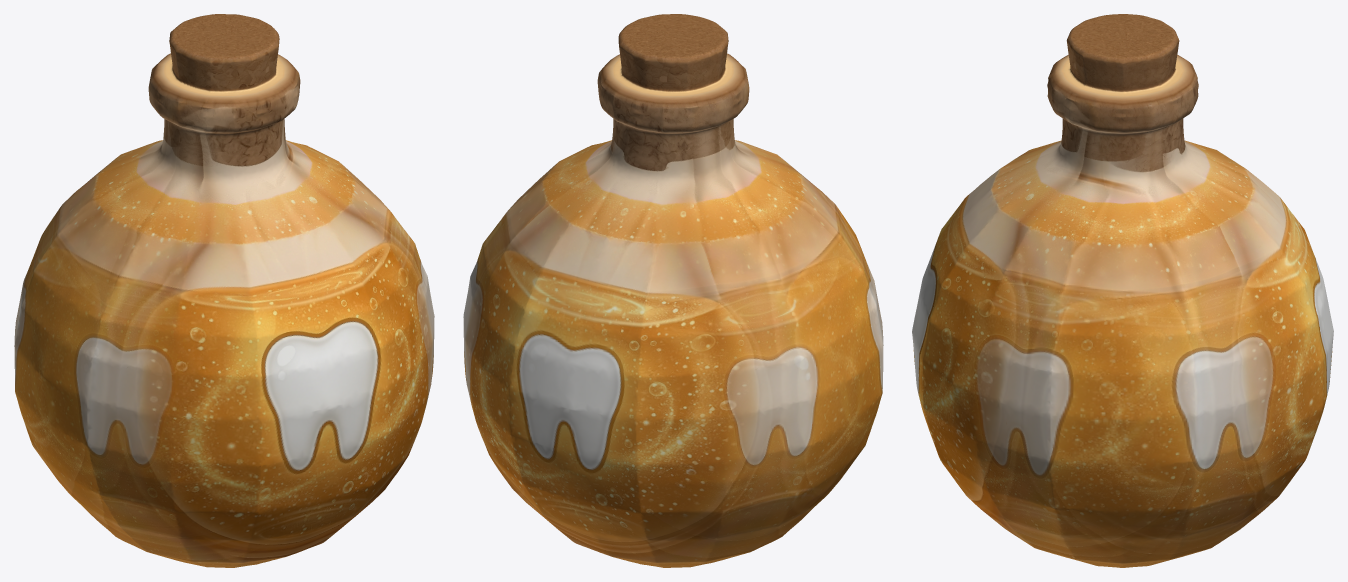
File: MWashGold2.glb
The picture shows the model from 3 angles, left to right: view 1: azimuth 30°, elevation 25°; view 2: azimuth 150°, elevation 25°; view 3: azimuth 270°, elevation 25°; orthographic projection.
Bounding box in the file's own units: 1.41 × 1.9 × 1.41.
Materials: 1 (1 with a texture image).
